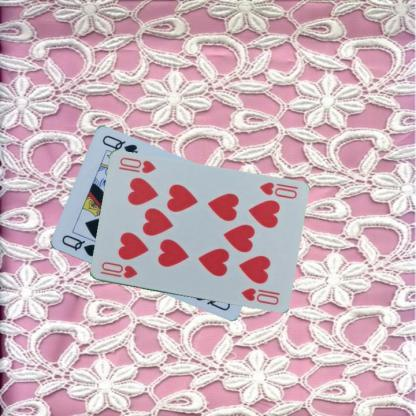10h: (97, 260, 139, 280), (256, 180, 298, 200)
Qs: (59, 232, 98, 258)
